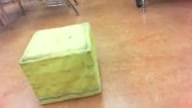cube: (18, 22, 102, 108)
